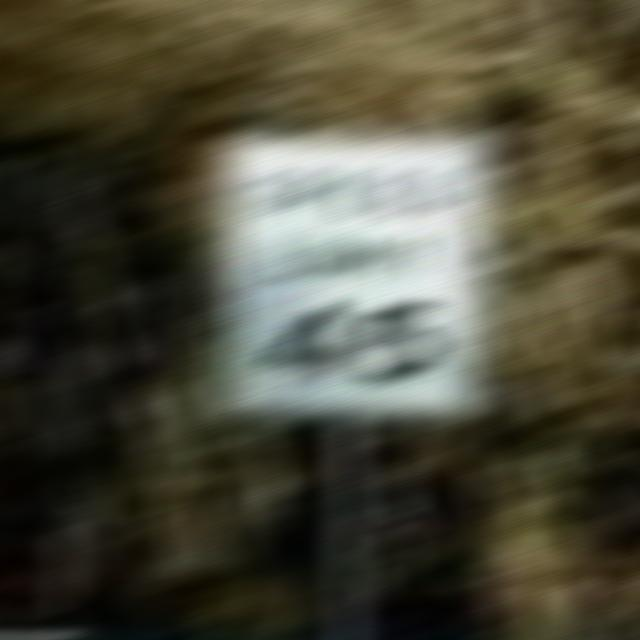speedLimit45: (229, 151, 475, 404)
